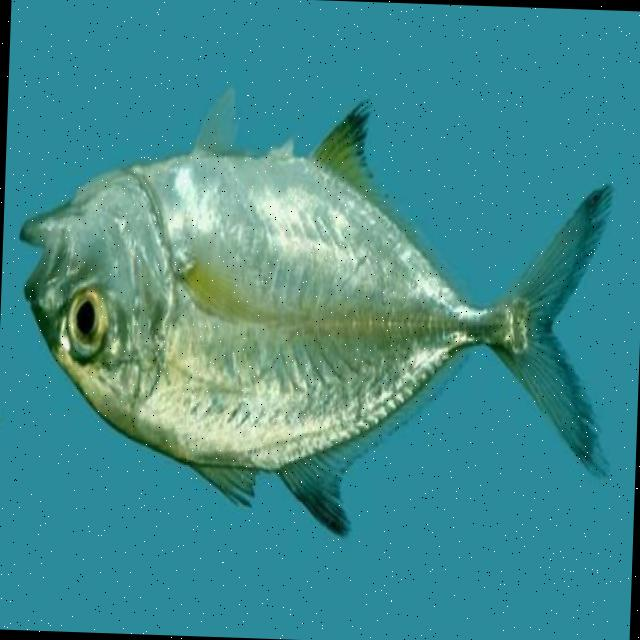ikan: (7, 80, 623, 550)
